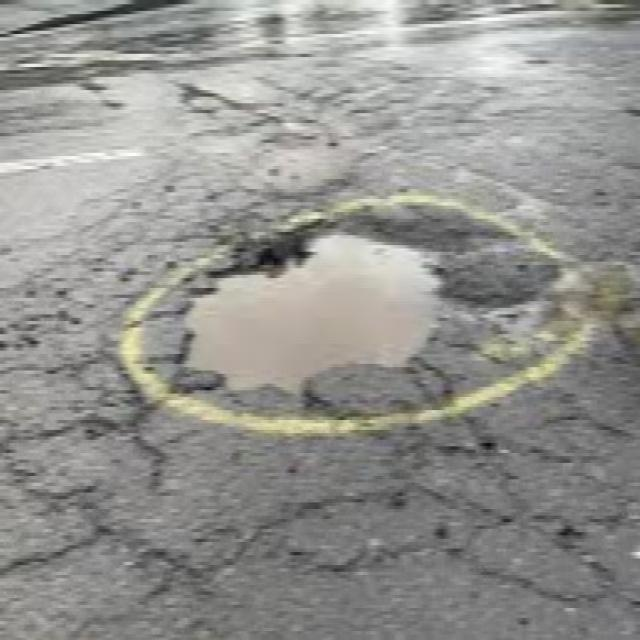Pothole: (173, 210, 461, 411)
